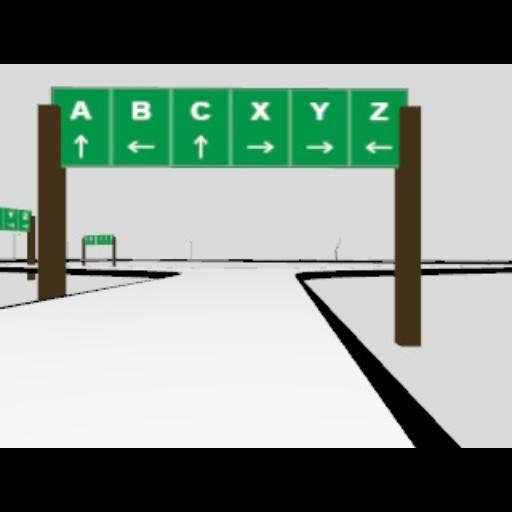A: (69, 100, 91, 120)
B: (132, 100, 150, 120)
C: (189, 100, 211, 120)
Left: (363, 140, 393, 154), (125, 140, 155, 152)
Right: (245, 139, 275, 153), (306, 140, 334, 154)
Straight: (192, 135, 208, 157), (74, 135, 88, 157)
X: (250, 100, 268, 120)
Y: (308, 100, 330, 120)
Z: (368, 100, 388, 120)
